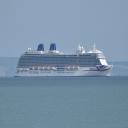cruises: (15, 41, 115, 81)
